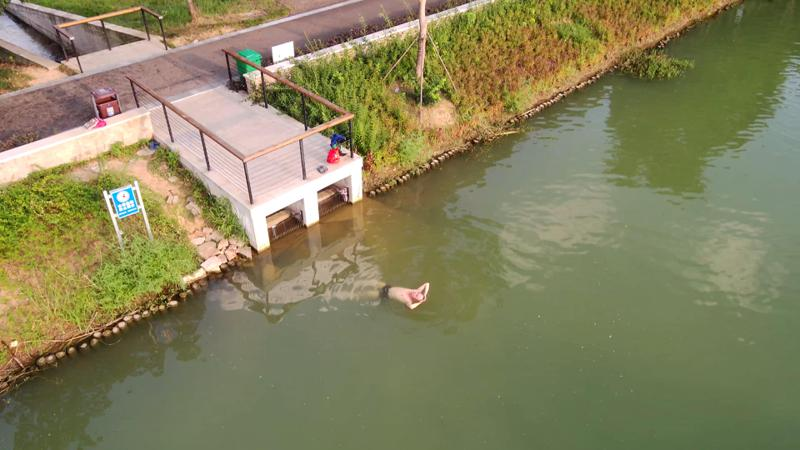swimmers: (346, 279, 430, 311)
